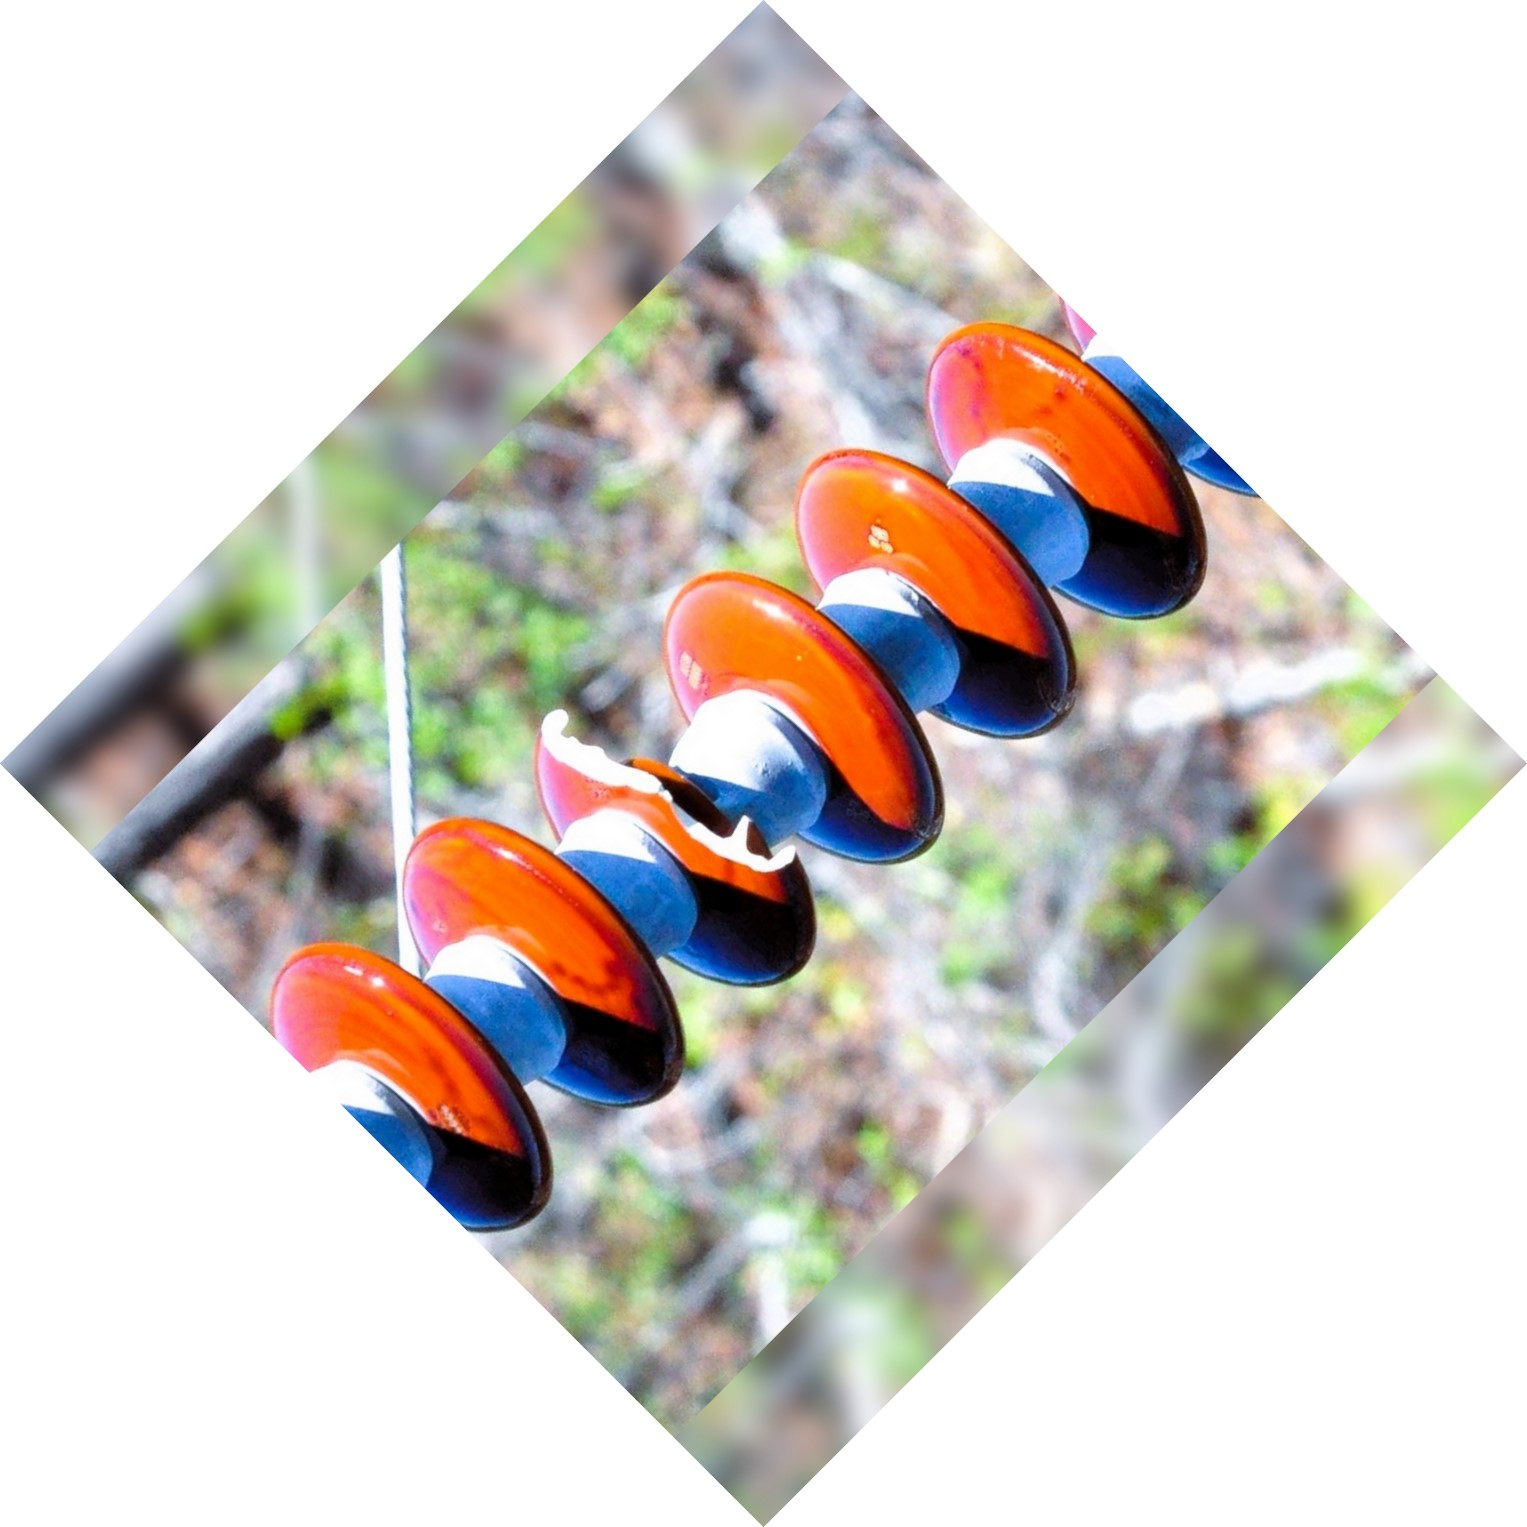insulator breakage: (534, 687, 840, 997)
